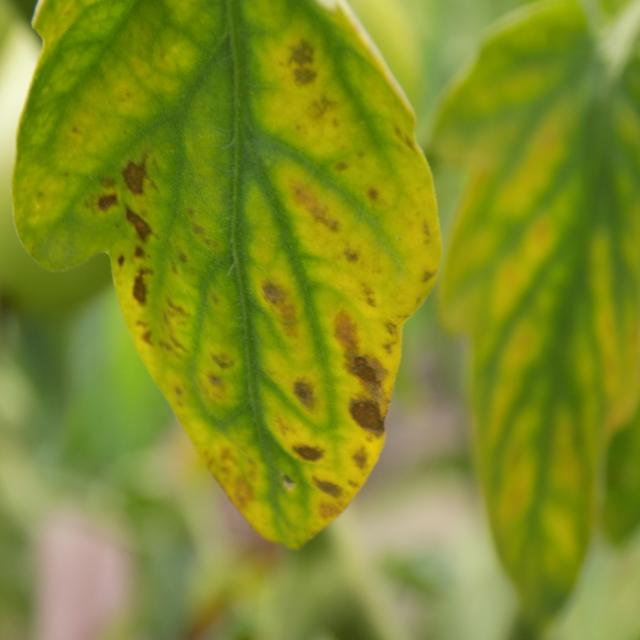tomato_early blight: (7, 0, 436, 552)
